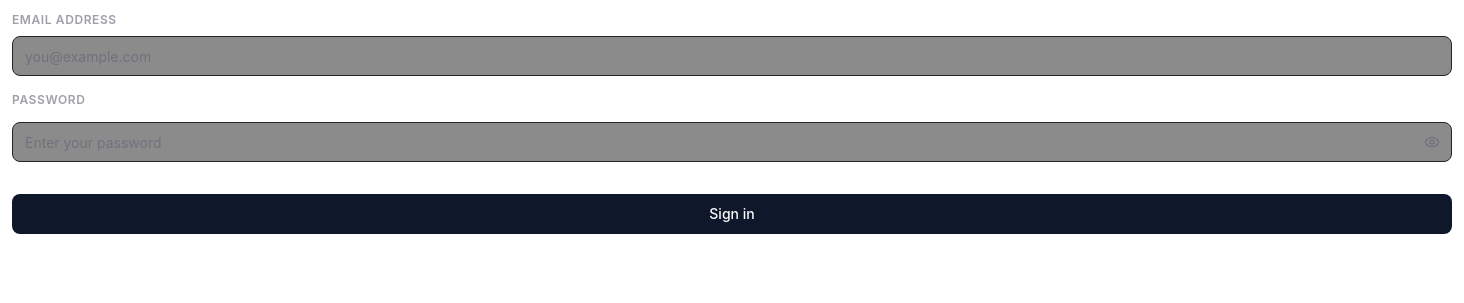
Test: auth forms › does not submit empty login credentials and shows field errors
This screenshot has width=1464, height=303.
Click the button "Sign in": x=732, y=214 [12, 194, 1452, 234]
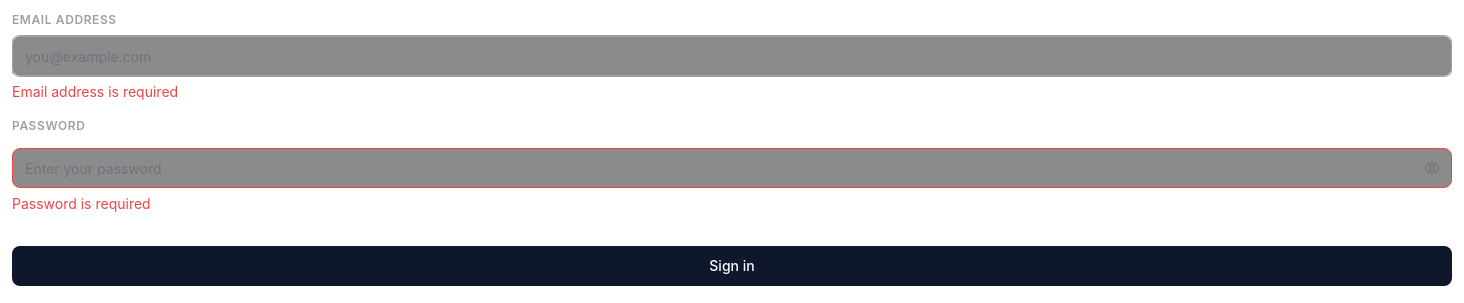
expect the text "Email address is required" is shown: met, box [12, 83, 178, 100]
expect the text "Password is required" is shown: met, box [12, 195, 151, 212]
